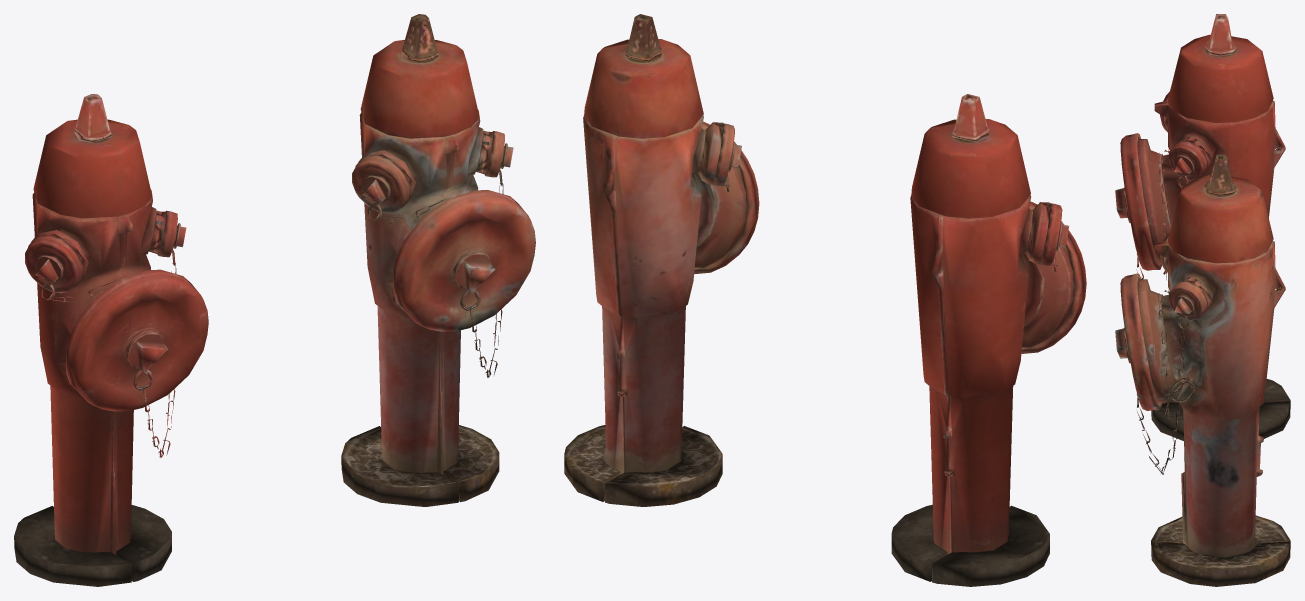
The model's file is fire_hydrant.glb.
3 views of the same model, side by side, from view 1: azimuth 30°, elevation 25°; view 2: azimuth 150°, elevation 25°; view 3: azimuth 270°, elevation 25° (orthographic). The views are drawn at different scales.
Visible parts, largest first — view 1: fire_hydrant_aged, fire_hydrant, fire_hydrant_cap_01_aged, fire_hydrant_cap_01, fire_hydrant_cap_03_aged, fire_hydrant_cap_03, fire_hydrant_chain_aged, fire_hydrant_chain, fire_hydrant_cap_02, fire_hydrant_cap_02_aged; view 2: fire_hydrant, fire_hydrant_aged, fire_hydrant_cap_01, fire_hydrant_cap_01_aged, fire_hydrant_cap_03, fire_hydrant_cap_03_aged; view 3: fire_hydrant_aged, fire_hydrant, fire_hydrant_cap_01_aged, fire_hydrant_cap_01, fire_hydrant_chain_aged, fire_hydrant_cap_02_aged, fire_hydrant_cap_02, fire_hydrant_chain.
Part boxes in pixels (left/top/right/bottom): fire_hydrant_aged: left=341, top=14, right=499, bottom=506; fire_hydrant: left=14, top=94, right=171, bottom=586; fire_hydrant_cap_01_aged: left=393, top=190, right=535, bottom=331; fire_hydrant_cap_01: left=66, top=269, right=208, bottom=411; fire_hydrant_cap_03_aged: left=352, top=155, right=410, bottom=213; fire_hydrant_cap_03: left=25, top=235, right=83, bottom=293; fire_hydrant_chain_aged: left=367, top=148, right=504, bottom=377; fire_hydrant_chain: left=40, top=228, right=176, bottom=457; fire_hydrant_cap_02: left=157, top=210, right=186, bottom=257; fire_hydrant_cap_02_aged: left=484, top=131, right=513, bottom=177; fire_hydrant: left=891, top=94, right=1074, bottom=586; fire_hydrant_aged: left=564, top=14, right=747, bottom=506; fire_hydrant_cap_01: left=1021, top=201, right=1086, bottom=353; fire_hydrant_cap_01_aged: left=694, top=121, right=759, bottom=274; fire_hydrant_cap_03: left=1039, top=203, right=1069, bottom=265; fire_hydrant_cap_03_aged: left=712, top=123, right=741, bottom=186; fire_hydrant_aged: left=1138, top=154, right=1290, bottom=586; fire_hydrant: left=1138, top=14, right=1290, bottom=440; fire_hydrant_cap_01_aged: left=1115, top=273, right=1161, bottom=410; fire_hydrant_cap_01: left=1115, top=133, right=1161, bottom=270; fire_hydrant_chain_aged: left=1136, top=289, right=1195, bottom=474; fire_hydrant_cap_02_aged: left=1168, top=281, right=1207, bottom=320; fire_hydrant_cap_02: left=1168, top=141, right=1207, bottom=179; fire_hydrant_chain: left=1136, top=149, right=1193, bottom=279.
Bounding box in the file's own units: 0.8745 × 0.7992 × 0.3173.
Materials: 2 (2 with a texture image).
